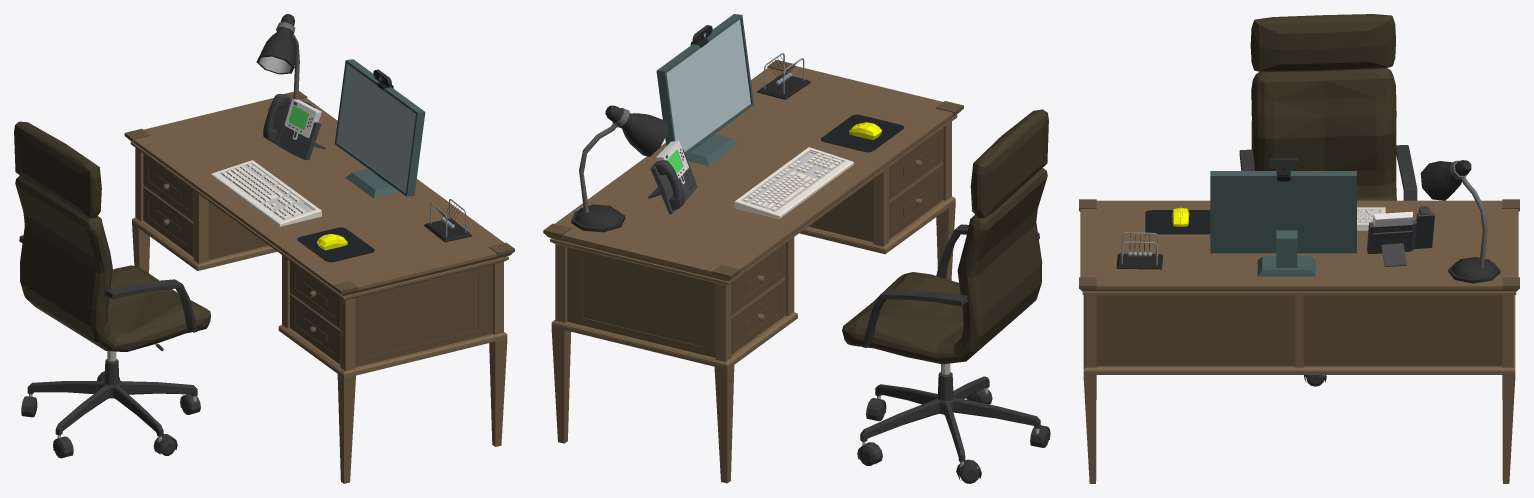
The model's file is deskwithchair.glb.
The picture shows the model from 3 angles, left to right: view 1: azimuth 30°, elevation 25°; view 2: azimuth 150°, elevation 25°; view 3: azimuth 270°, elevation 25°; orthographic projection. The views are drawn at different scales.
Parts seen in each view (by area): view 1: Desk-V86Go2rlnq, Chair, Computer Screen, Keyboard-aPwr5p1dluw, Office Phone.002, Light Desk, Mousepad.002, Cube.002; view 2: Desk-V86Go2rlnq, Chair, Computer Screen, Keyboard-aPwr5p1dluw, Light Desk, Office Phone.002, Mousepad.002, Cube.002; view 3: Desk-V86Go2rlnq, Chair, Computer Screen, Light Desk, Office Phone.002, Mousepad.002, Cube.002, Cylinder.
Part boxes in pixels (x1=…): Desk-V86Go2rlnq: x1=124, y1=91, x2=514, y2=483; Chair: x1=14, y1=121, x2=210, y2=458; Computer Screen: x1=334, y1=59, x2=425, y2=198; Keyboard-aPwr5p1dluw: x1=211, y1=160, x2=321, y2=226; Office Phone.002: x1=263, y1=94, x2=325, y2=160; Light Desk: x1=256, y1=14, x2=315, y2=110; Mousepad.002: x1=297, y1=227, x2=374, y2=262; Cube.002: x1=424, y1=199, x2=472, y2=242; Desk-V86Go2rlnq: x1=543, y1=60, x2=963, y2=483; Chair: x1=842, y1=109, x2=1050, y2=483; Computer Screen: x1=656, y1=14, x2=753, y2=166; Keyboard-aPwr5p1dluw: x1=734, y1=147, x2=853, y2=218; Light Desk: x1=571, y1=105, x2=668, y2=232; Office Phone.002: x1=648, y1=140, x2=697, y2=214; Mousepad.002: x1=821, y1=114, x2=904, y2=152; Cube.002: x1=757, y1=53, x2=810, y2=99; Desk-V86Go2rlnq: x1=1079, y1=199, x2=1519, y2=483; Chair: x1=1239, y1=14, x2=1417, y2=386; Computer Screen: x1=1210, y1=171, x2=1356, y2=276; Light Desk: x1=1420, y1=160, x2=1500, y2=283; Office Phone.002: x1=1367, y1=206, x2=1434, y2=266; Mousepad.002: x1=1145, y1=210, x2=1210, y2=234; Cube.002: x1=1116, y1=232, x2=1162, y2=269; Cylinder: x1=1268, y1=158, x2=1299, y2=181.
Size of the model in its own units: 1.72 by 1.43 by 1.82.
Materials: 24 (2 with a texture image).
